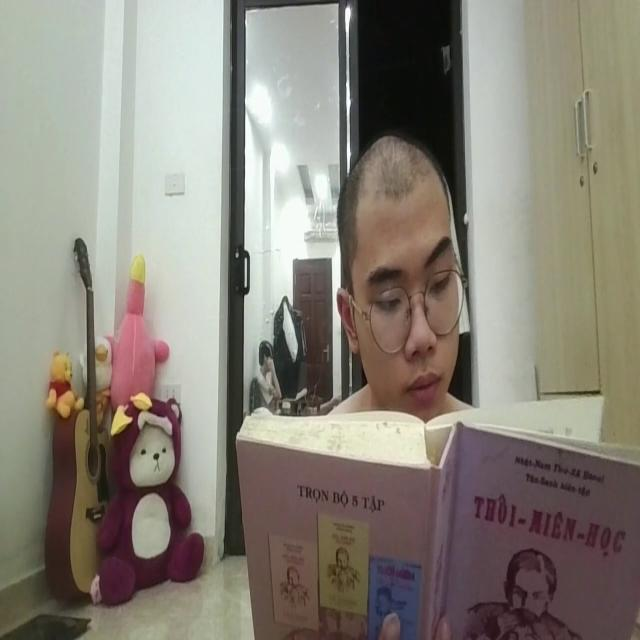book: (230, 391, 640, 640)
extra_person: (252, 328, 287, 420)
student: (330, 132, 468, 420)
